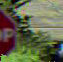Stop: (0, 11, 18, 56)
